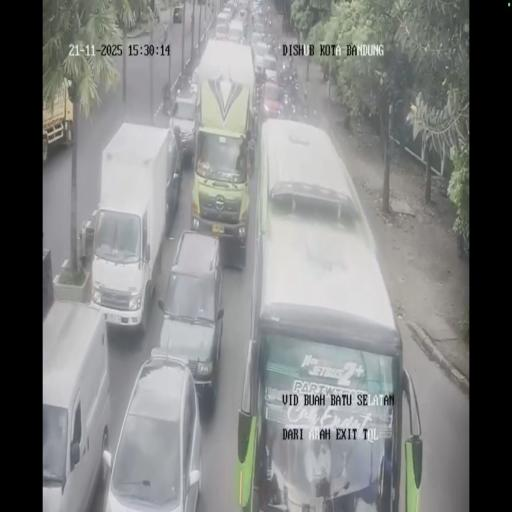3: (89, 123, 177, 332), (190, 40, 257, 260)
car: (250, 0, 271, 38), (262, 65, 278, 86), (238, 6, 246, 18)
